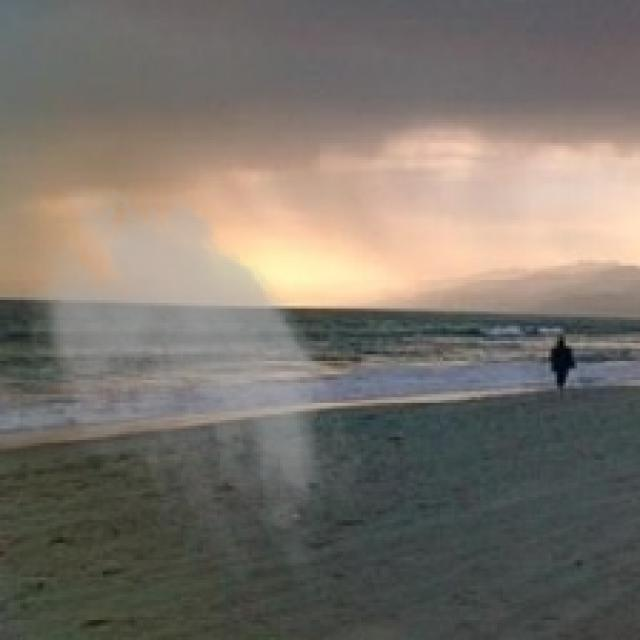smoke: (9, 172, 368, 588)
